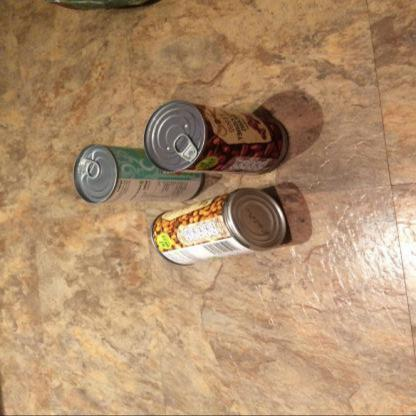Can: (144, 100, 288, 176), (150, 189, 286, 266), (74, 144, 204, 204)
Pop tab: (173, 134, 197, 162), (79, 160, 100, 180)
